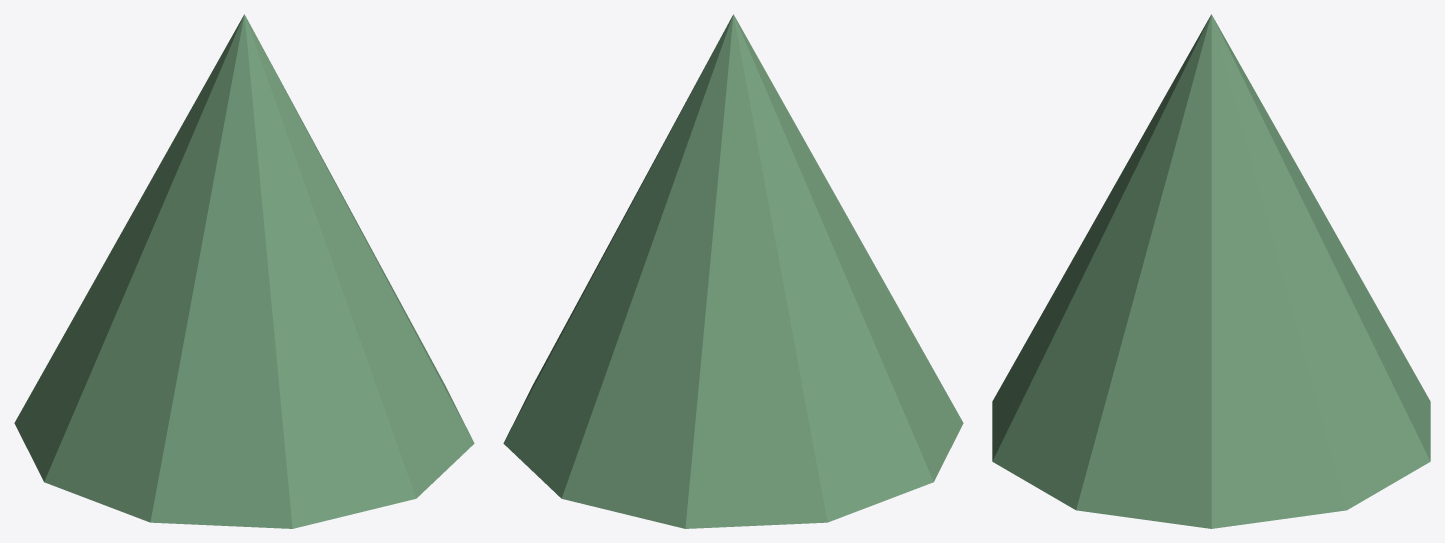
The picture shows the model from 3 angles, left to right: view 1: azimuth 30°, elevation 25°; view 2: azimuth 150°, elevation 25°; view 3: azimuth 270°, elevation 25°; orthographic projection.
Size of the model in its own units: 1 by 1 by 0.9511.
